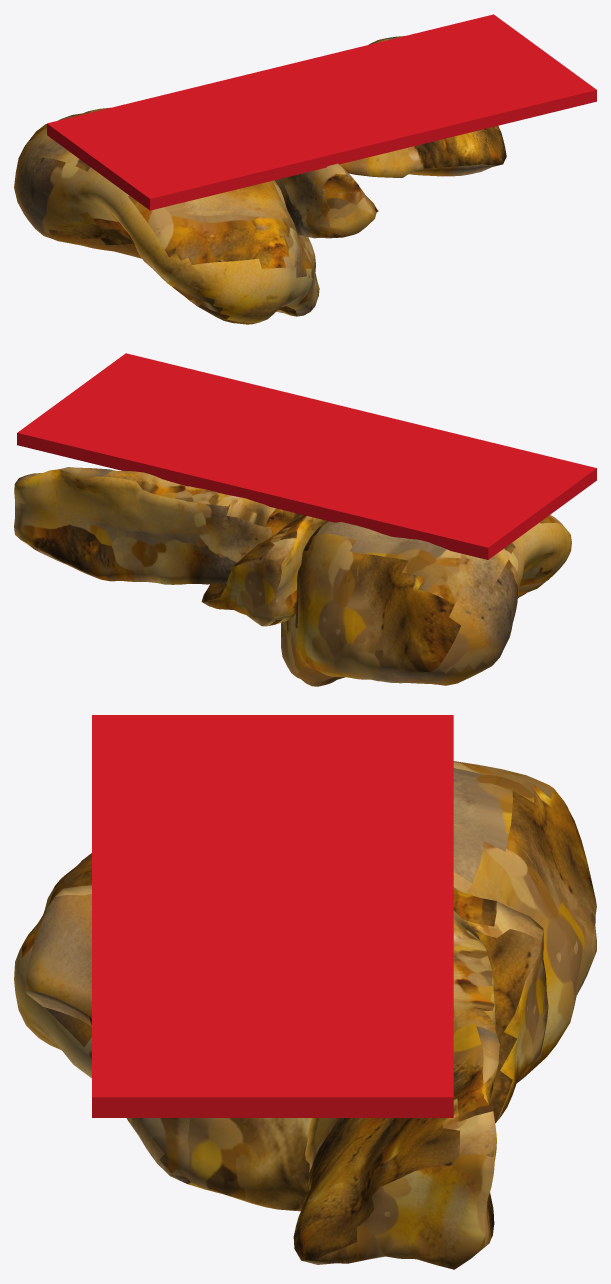
File: Rocha_laranja.fbx
3 views of the same model, one above another, from view 1: azimuth 30°, elevation 25°; view 2: azimuth 150°, elevation 25°; view 3: azimuth 270°, elevation 25° (orthographic). The views are drawn at different scales.
Visible parts, largest first — view 1: rock.004, Cube.066, Cube.065, kamien_low.006, kamien_low.005; view 2: rock.004, Cube.066, Cube.065, kamien_low.005, kamien_low.006; view 3: Cube.065, Cube.066, rock.004, kamien_low.005, kamien_low.006.
Boxes of the visible parts, x1=… form: rock.004: x1=14, y1=107, x2=319, y2=324; Cube.066: x1=47, y1=69, x2=373, y2=210; Cube.065: x1=271, y1=14, x2=596, y2=155; kamien_low.006: x1=275, y1=163, x2=378, y2=238; kamien_low.005: x1=339, y1=36, x2=506, y2=177; rock.004: x1=281, y1=515, x2=571, y2=686; Cube.066: x1=252, y1=410, x2=596, y2=559; Cube.065: x1=17, y1=353, x2=360, y2=500; kamien_low.005: x1=14, y1=467, x2=296, y2=584; kamien_low.006: x1=201, y1=513, x2=326, y2=626; Cube.065: x1=92, y1=906, x2=453, y2=1117; Cube.066: x1=92, y1=715, x2=453, y2=906; rock.004: x1=14, y1=761, x2=596, y2=1211; kamien_low.005: x1=293, y1=911, x2=499, y2=1269; kamien_low.006: x1=25, y1=885, x2=548, y2=1123.
Size of the model in its own units: 1170 by 466 by 725.
3 materials, 2 textured.
